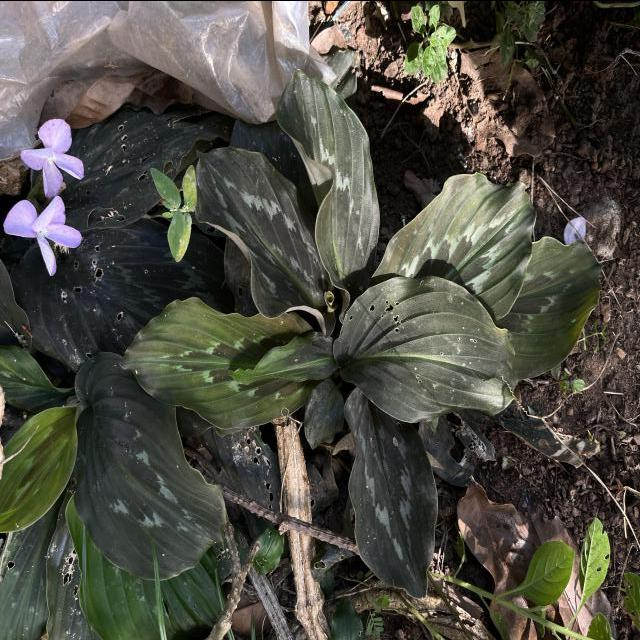Kaempferia galanga linn: (72, 348, 230, 584), (189, 143, 338, 339), (330, 272, 522, 424), (117, 294, 326, 430), (274, 66, 382, 325), (362, 169, 538, 322), (340, 384, 440, 600), (226, 327, 340, 388)
